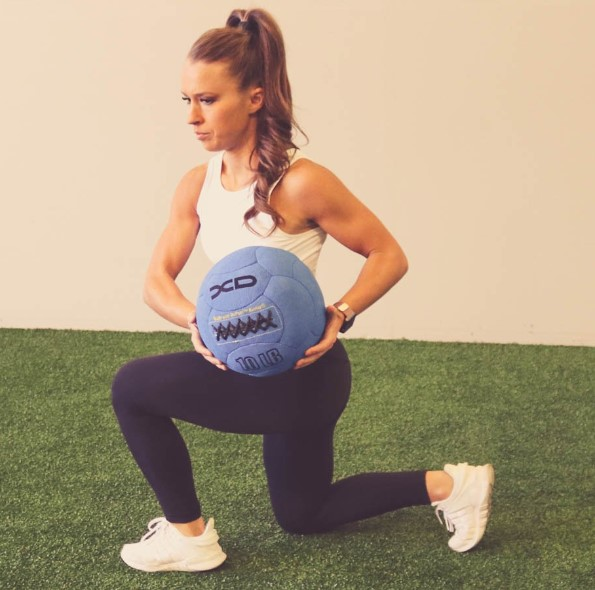blue ball: (194, 246, 330, 379)
